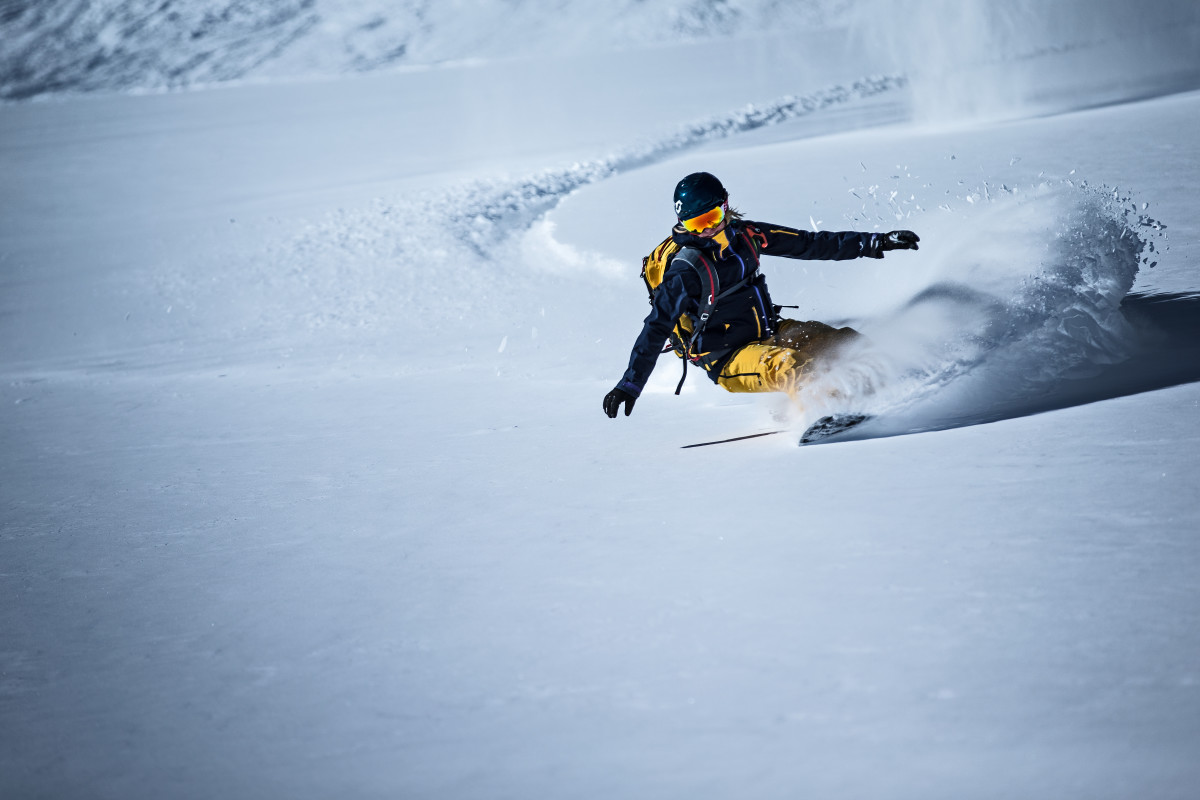snowboarder: (606, 171, 922, 444)
